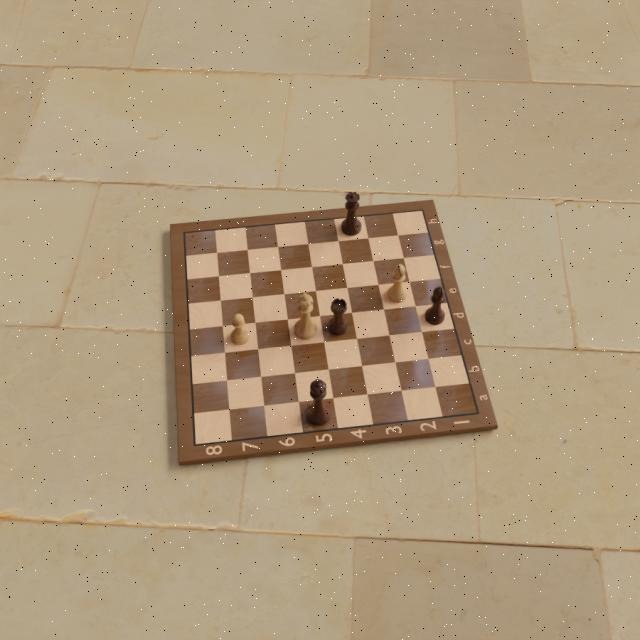black-bishop: (423, 285, 448, 327)
black-king: (305, 378, 333, 428)
black-queen: (338, 190, 364, 237)
black-rook: (325, 298, 350, 336)
white-bishop: (384, 262, 408, 304)
white-king: (291, 292, 320, 342)
white-pawn: (226, 311, 251, 346)
